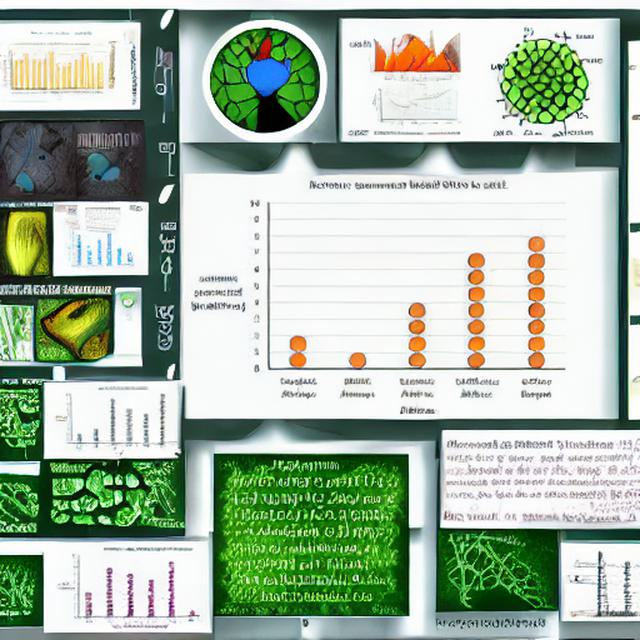Graph: (188, 178, 571, 418), (55, 544, 207, 632), (50, 384, 174, 456), (0, 41, 106, 100), (371, 76, 461, 129), (62, 227, 137, 271), (69, 125, 122, 157)
